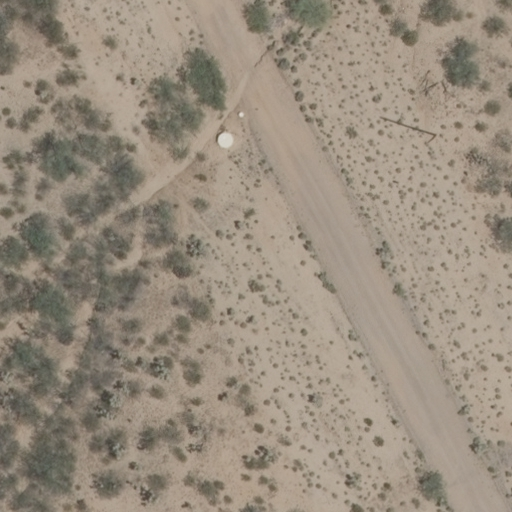DT: (379, 115, 438, 138)
